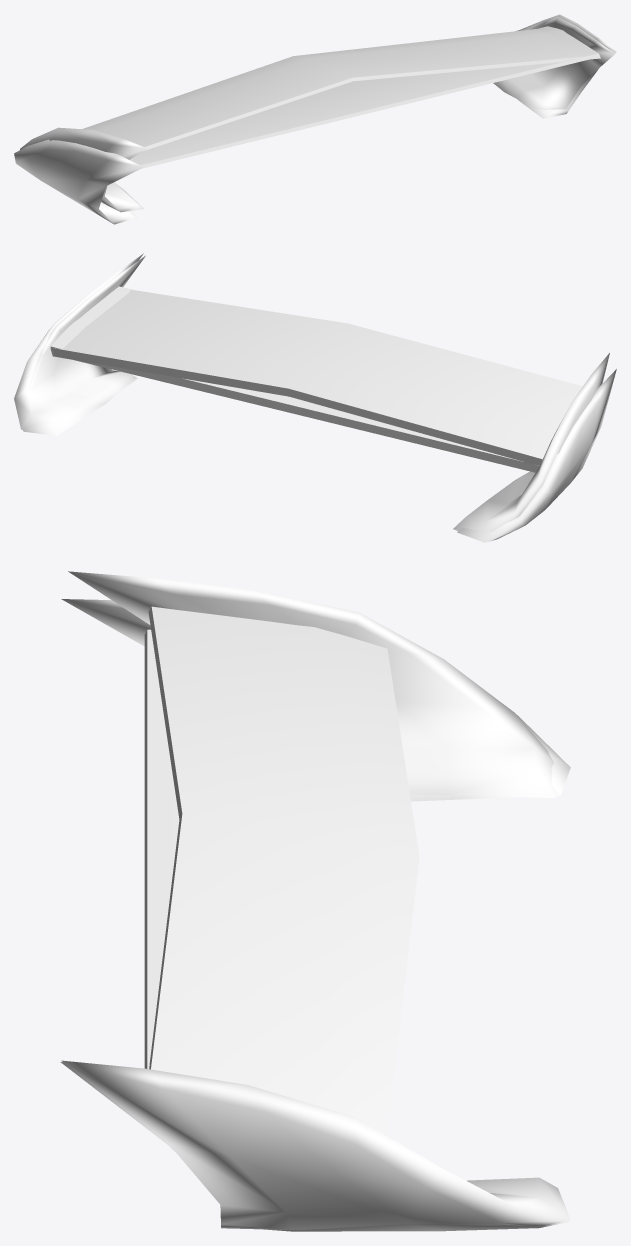
The model's file is spl_a_s_b.glb.
3 renders of one model, top to bottom at view 1: azimuth 30°, elevation 25°; view 2: azimuth 150°, elevation 25°; view 3: azimuth 270°, elevation 25°, orthographic. The views are drawn at different scales.
Visible parts, largest first — view 1: spl_a_s_b_dam, spl_a_s_b; view 2: spl_a_s_b_dam, spl_a_s_b; view 3: spl_a_s_b_dam, spl_a_s_b.
Part boxes in pixels (left/top/right/bottom): spl_a_s_b_dam: left=20, top=17, right=614, bottom=212; spl_a_s_b: left=14, top=14, right=616, bottom=224; spl_a_s_b_dam: left=23, top=255, right=609, bottom=532; spl_a_s_b: left=14, top=253, right=616, bottom=542; spl_a_s_b_dam: left=60, top=571, right=569, bottom=1231; spl_a_s_b: left=61, top=599, right=570, bottom=1229.
Bounding box in the file's own units: 1.89 × 0.363 × 0.7964.
1 material, 1 textured.
